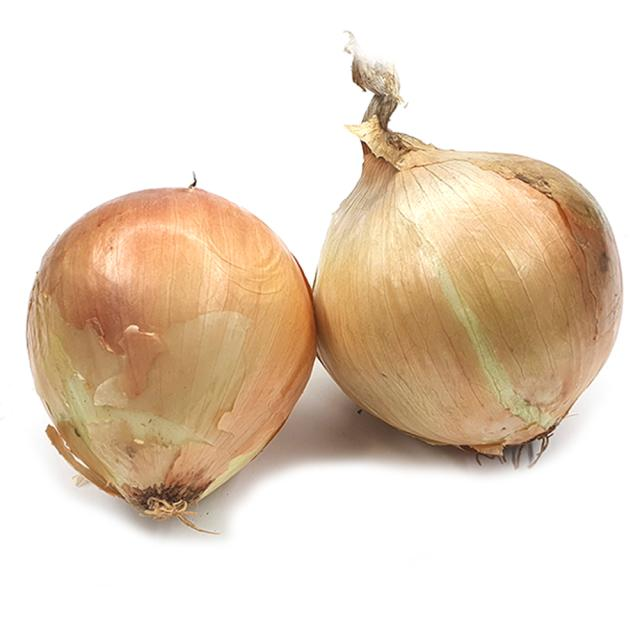onion: (21, 118, 627, 526), (314, 124, 624, 478), (24, 184, 318, 520)
